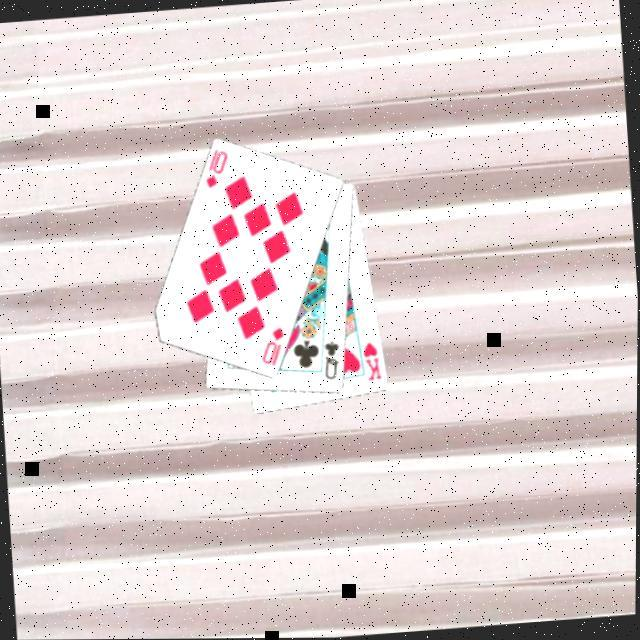10D: (199, 145, 232, 193), (256, 325, 288, 371)
KH: (358, 340, 384, 385)
QC: (319, 338, 344, 383)
